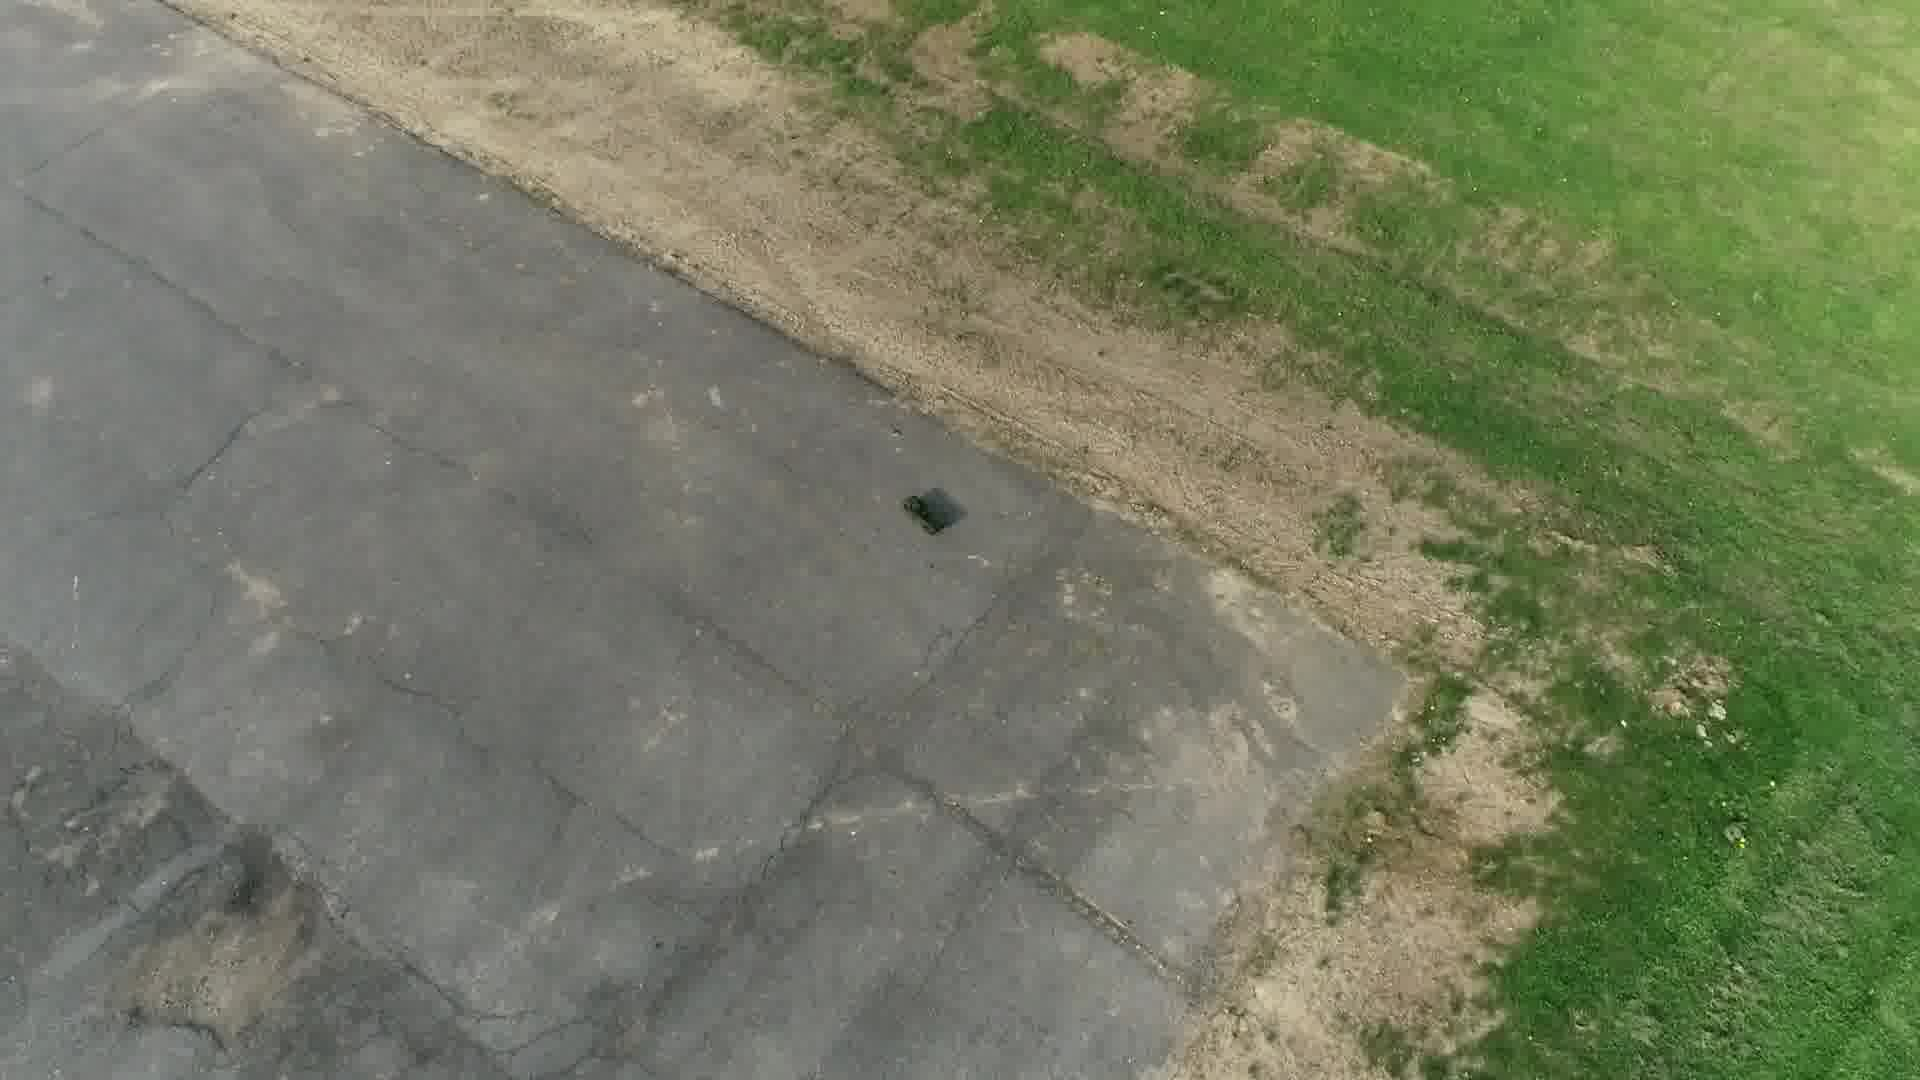transporter9: (899, 491, 952, 541)
